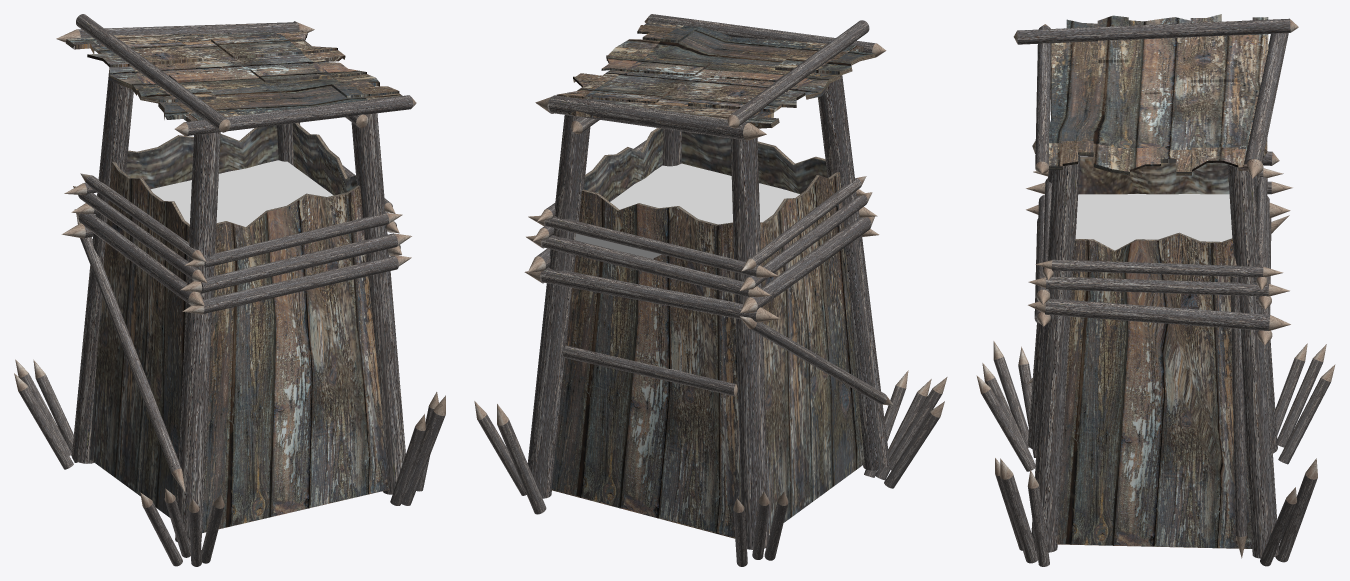
File: towerhigh4.fbx
The picture shows the model from 3 angles, left to right: view 1: azimuth 30°, elevation 25°; view 2: azimuth 150°, elevation 25°; view 3: azimuth 270°, elevation 25°; orthographic projection.
Parts seen in each view (by area): view 1: Kostka; view 2: Kostka; view 3: Kostka.
Part boxes in pixels (bbox=[...]): Kostka: bbox=[14, 14, 445, 566]; Kostka: bbox=[474, 14, 947, 566]; Kostka: bbox=[976, 14, 1335, 566].
Size of the model in its own units: 2843 by 3745 by 2682.
